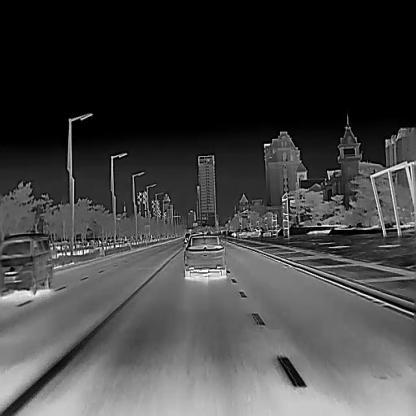car: (0, 231, 54, 294), (182, 232, 227, 277), (237, 226, 261, 236), (230, 229, 247, 237)
